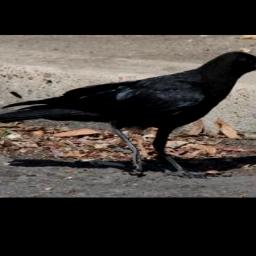Crow: (0, 48, 256, 177)
